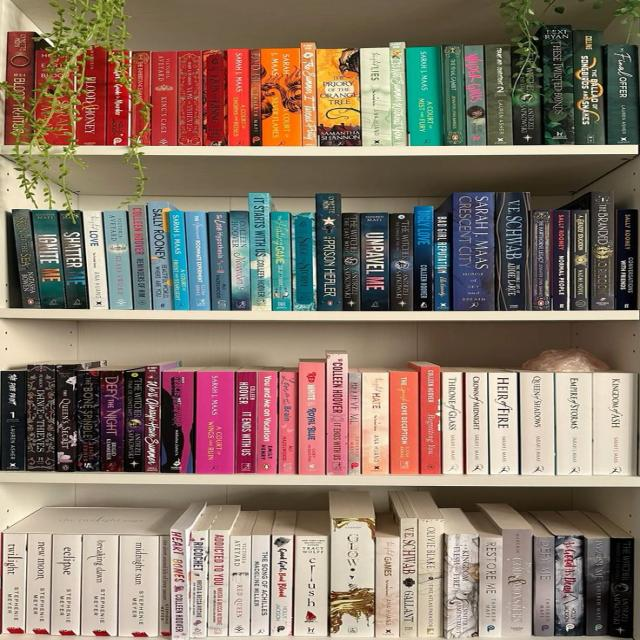book: (330, 517, 374, 636), (451, 192, 494, 311), (251, 49, 302, 146), (170, 502, 205, 639), (118, 535, 160, 636), (195, 369, 235, 474), (317, 49, 359, 146), (595, 374, 635, 474), (541, 25, 574, 144), (188, 508, 218, 638), (497, 192, 529, 310), (556, 373, 592, 475), (81, 535, 117, 636), (406, 46, 442, 146), (603, 44, 639, 144), (573, 29, 604, 144), (409, 363, 441, 474), (161, 370, 195, 473), (444, 532, 477, 638), (294, 536, 328, 637), (520, 372, 553, 475), (418, 518, 446, 639), (501, 528, 531, 636), (31, 210, 63, 308), (50, 534, 81, 635), (298, 360, 325, 475), (26, 365, 55, 471), (555, 535, 585, 637), (390, 369, 419, 474), (362, 369, 389, 475), (360, 48, 389, 146), (590, 192, 614, 310), (489, 373, 517, 474), (146, 202, 172, 310), (316, 194, 340, 311), (511, 48, 540, 144), (103, 210, 131, 309), (361, 212, 389, 311), (0, 369, 27, 471), (326, 353, 348, 475), (12, 209, 39, 308), (485, 45, 511, 145), (60, 211, 86, 309), (584, 538, 610, 635), (25, 534, 50, 634), (249, 192, 270, 310), (185, 211, 210, 310), (151, 52, 177, 145), (2, 533, 26, 633), (83, 211, 107, 309), (292, 213, 316, 311), (177, 51, 202, 145), (441, 368, 463, 474), (100, 371, 123, 472), (228, 535, 251, 636), (613, 536, 636, 636), (390, 213, 413, 311), (465, 372, 487, 474), (270, 536, 292, 638), (376, 536, 398, 638), (479, 536, 501, 638), (227, 49, 250, 146), (255, 368, 276, 474), (77, 370, 99, 471), (56, 366, 77, 471), (464, 45, 486, 145), (203, 50, 226, 145), (236, 370, 257, 473), (616, 209, 637, 310), (533, 535, 554, 636), (169, 210, 190, 310), (277, 369, 297, 474), (130, 205, 150, 309), (123, 368, 143, 472), (531, 209, 551, 310), (6, 31, 35, 100), (443, 45, 463, 145), (414, 206, 433, 311), (551, 209, 570, 310), (570, 209, 589, 310), (432, 198, 449, 310), (399, 518, 415, 637), (272, 211, 291, 311), (209, 530, 227, 635), (230, 211, 249, 310), (210, 212, 229, 310), (143, 366, 160, 472), (300, 43, 317, 146), (251, 534, 268, 636), (343, 213, 360, 311), (391, 42, 407, 146), (348, 372, 361, 475), (132, 51, 150, 103), (4, 98, 20, 144), (131, 104, 143, 135), (141, 128, 150, 145)
